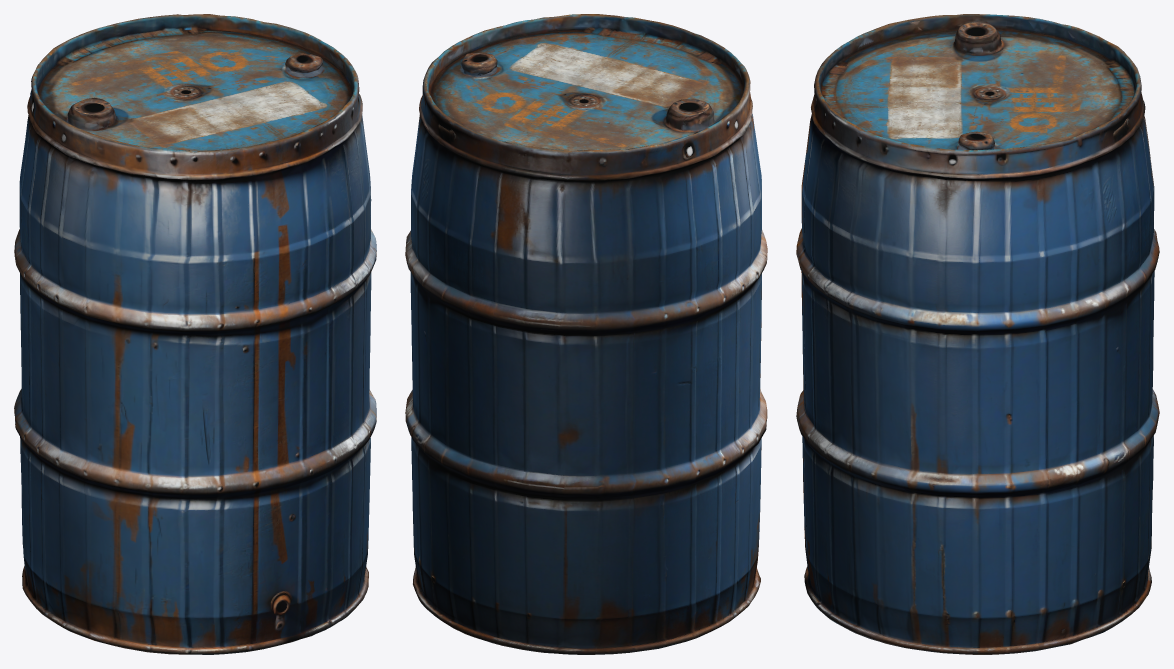
The model's file is Barrel.fbx.
3 renders of one model, left to right at view 1: azimuth 30°, elevation 25°; view 2: azimuth 150°, elevation 25°; view 3: azimuth 270°, elevation 25°, orthographic.
Visible parts, largest first — view 1: Mesh_0; view 2: Mesh_0; view 3: Mesh_0.
Boxes of the visible parts, box(x1,y1,x2,y2) form: Mesh_0: box(14, 14, 376, 654); Mesh_0: box(405, 14, 767, 654); Mesh_0: box(796, 14, 1159, 654).
Size of the model in its own units: 131 by 201 by 131.
Materials: 1 (1 with a texture image).
